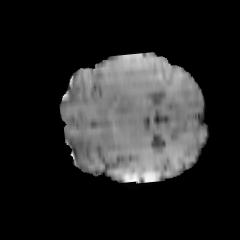glioma: (92, 54, 169, 116)
